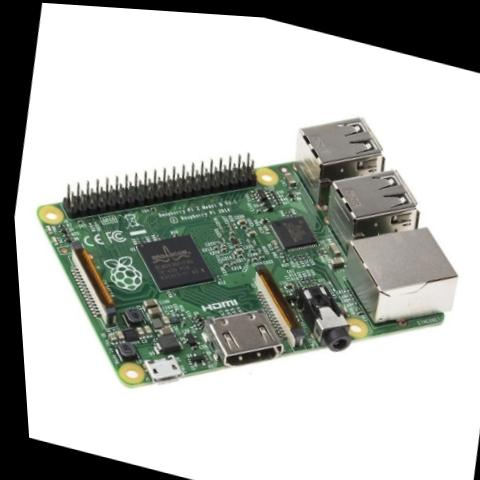Raspberry-Pi-2-Model-B: (1, 24, 480, 479)
